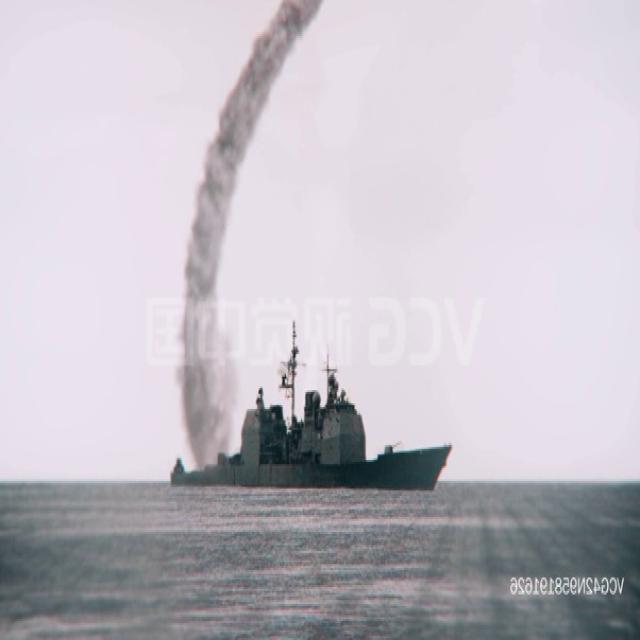navalvessels: (167, 318, 464, 487)
